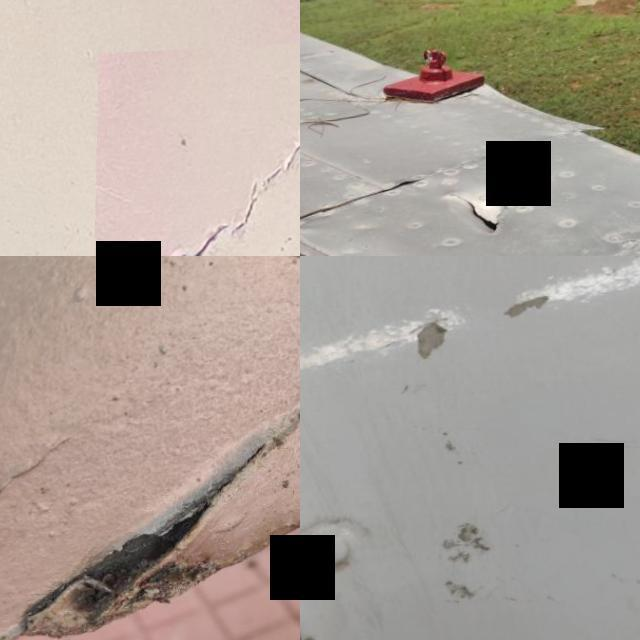Crack: (351, 256, 638, 425), (93, 46, 300, 256), (62, 453, 252, 640), (442, 178, 522, 246)
